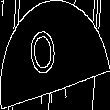O_S: (39, 26, 71, 84)
